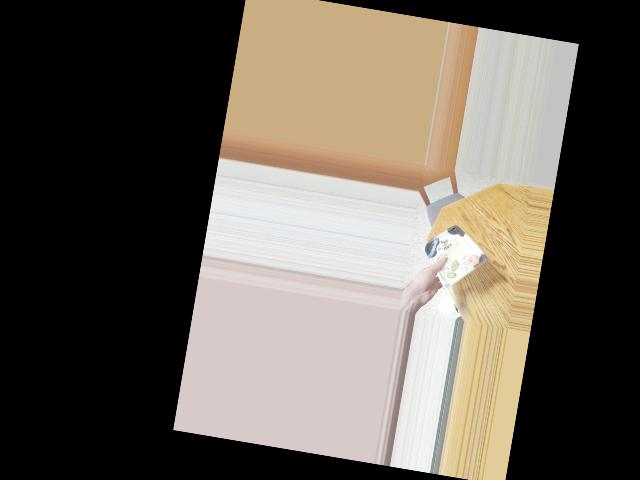cheese: (420, 226, 483, 282)
